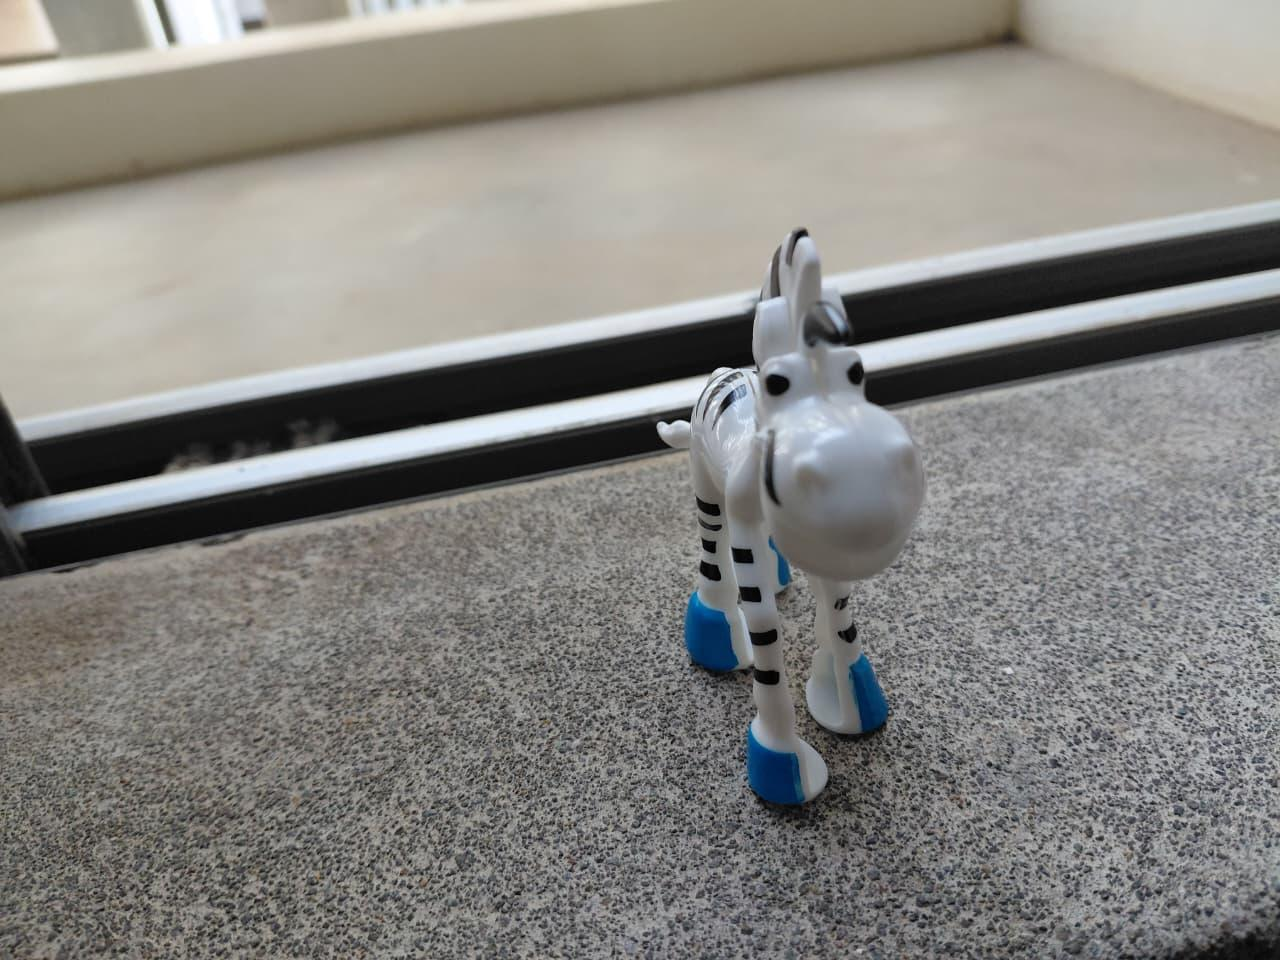zebra: (572, 187, 1040, 850)
